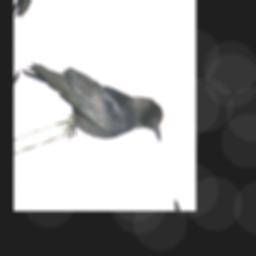Crow: (20, 23, 171, 183)
